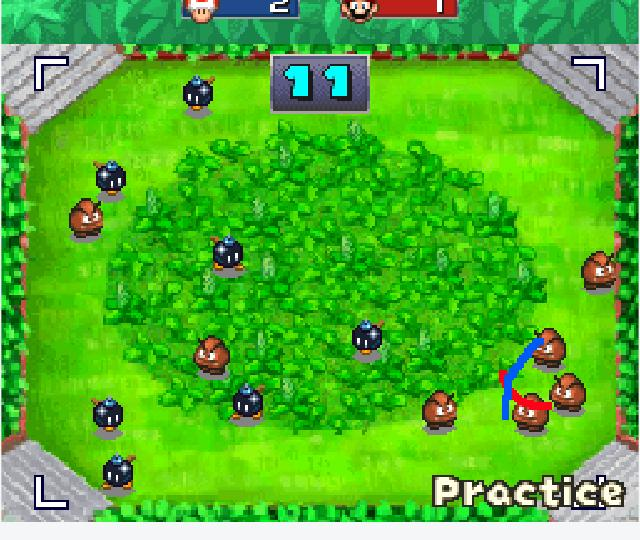bomb: (205, 233, 249, 280), (85, 392, 128, 440), (98, 449, 138, 497), (88, 158, 128, 202), (350, 316, 390, 359), (230, 383, 268, 423), (181, 75, 220, 112)
goomba: (508, 390, 553, 437), (188, 332, 237, 375), (64, 195, 107, 241), (528, 324, 570, 371), (579, 248, 622, 292), (419, 388, 459, 434), (548, 372, 588, 418)
